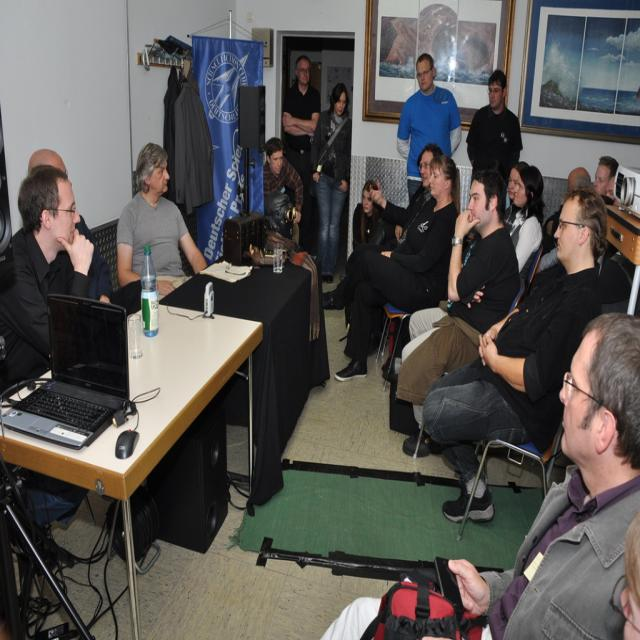desk: (9, 244, 334, 623)
laptop: (0, 293, 130, 451)
mouse: (115, 428, 140, 458)
person: (420, 189, 606, 532), (394, 166, 520, 437), (334, 147, 458, 378), (0, 164, 84, 383), (116, 141, 210, 290), (25, 148, 114, 303), (396, 52, 462, 200), (312, 81, 352, 286), (281, 55, 321, 241), (466, 68, 523, 185), (262, 134, 305, 246), (506, 162, 544, 272), (612, 509, 640, 636)
